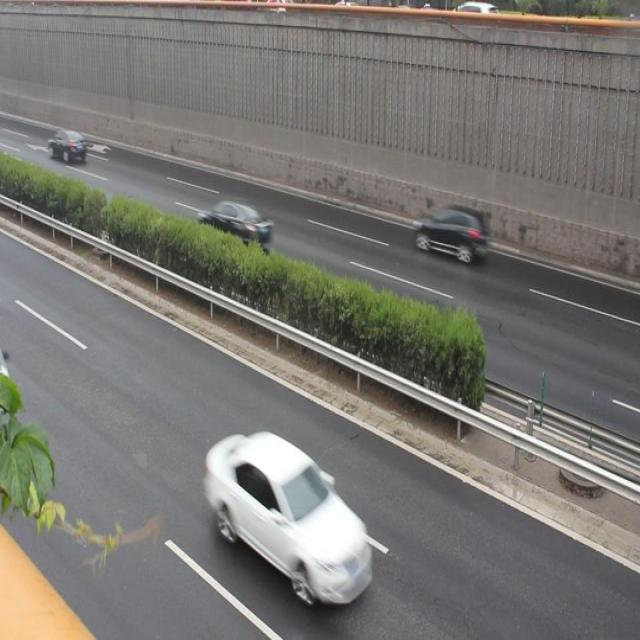car: (206, 432, 373, 601), (414, 204, 489, 265), (196, 201, 272, 254)
